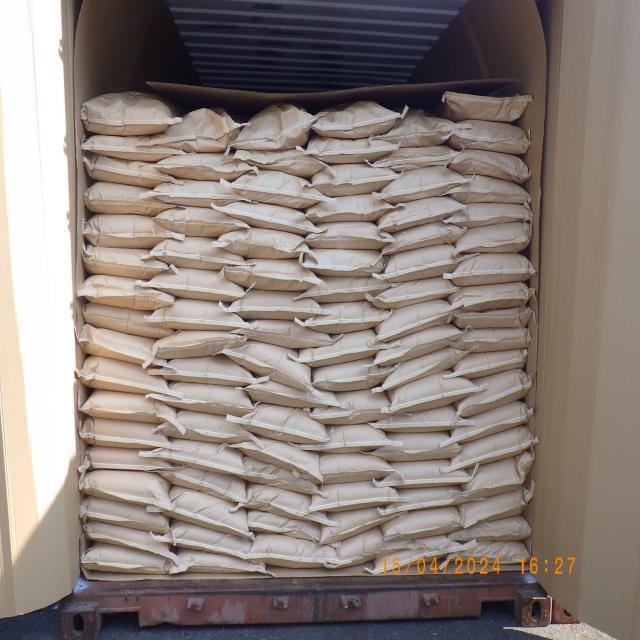gunny_bag: (76, 518, 187, 568), (221, 330, 311, 388), (158, 485, 252, 538), (228, 400, 328, 448), (79, 466, 172, 514), (77, 354, 173, 400), (231, 156, 319, 206), (151, 104, 242, 152), (242, 432, 328, 482), (151, 374, 253, 416), (140, 326, 247, 366), (250, 478, 337, 527), (81, 89, 180, 132), (160, 404, 254, 448), (138, 262, 246, 300), (368, 536, 476, 574), (222, 190, 317, 233), (307, 157, 403, 199), (81, 491, 170, 536), (78, 388, 178, 428), (162, 460, 250, 505), (240, 454, 326, 500), (80, 539, 173, 581), (149, 436, 244, 477), (233, 99, 310, 149), (224, 254, 318, 294), (148, 171, 244, 210), (148, 199, 244, 238), (372, 322, 460, 364), (447, 427, 535, 469), (77, 303, 173, 341), (310, 94, 406, 132), (233, 140, 324, 180), (328, 529, 417, 569), (249, 534, 342, 572), (74, 326, 162, 366), (223, 289, 326, 323), (248, 372, 340, 410), (77, 415, 171, 452), (376, 298, 458, 340), (456, 480, 534, 524), (457, 371, 533, 416), (374, 344, 462, 382), (384, 372, 472, 410), (156, 354, 254, 388), (152, 235, 244, 271), (164, 518, 250, 556), (302, 131, 401, 164), (81, 152, 171, 188), (453, 221, 534, 261), (450, 400, 531, 440), (80, 238, 162, 277), (216, 225, 310, 259), (381, 242, 465, 280), (298, 272, 396, 304), (82, 184, 174, 218), (77, 278, 173, 310), (298, 332, 394, 364), (459, 450, 528, 494), (448, 121, 532, 157), (447, 146, 531, 182), (378, 197, 468, 230), (160, 552, 266, 580), (381, 220, 468, 254), (238, 317, 330, 349), (310, 190, 396, 224), (321, 506, 406, 540), (302, 244, 392, 276), (153, 296, 244, 327), (82, 134, 176, 164), (442, 90, 530, 122), (247, 506, 321, 544), (80, 220, 184, 247), (304, 426, 404, 454), (303, 303, 393, 334), (364, 433, 460, 462), (378, 168, 467, 198), (450, 511, 532, 543), (452, 534, 534, 566), (446, 172, 533, 202), (156, 150, 252, 177), (313, 390, 399, 420), (305, 224, 397, 252), (378, 462, 473, 489), (377, 112, 457, 144), (313, 480, 398, 510), (372, 404, 470, 430), (76, 448, 182, 472), (313, 360, 397, 390), (380, 487, 470, 514), (310, 453, 396, 481), (382, 509, 468, 537), (448, 254, 534, 282), (451, 281, 534, 310), (368, 278, 459, 304), (451, 303, 534, 331), (446, 348, 532, 374), (376, 143, 459, 168), (448, 199, 531, 223), (452, 328, 533, 351)
